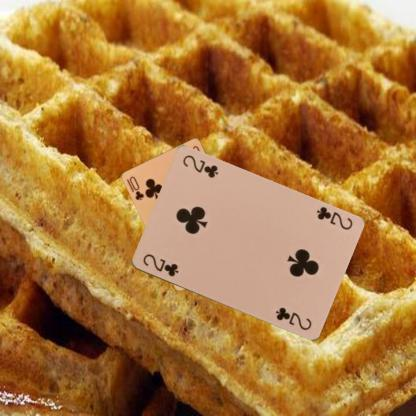10c: (127, 174, 146, 202)
2c: (313, 204, 354, 232), (140, 251, 180, 278)
